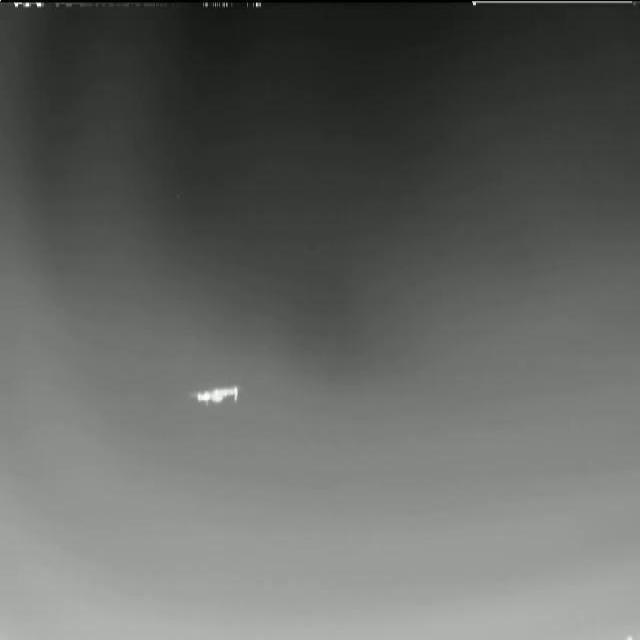DRONE: (183, 376, 248, 416)
